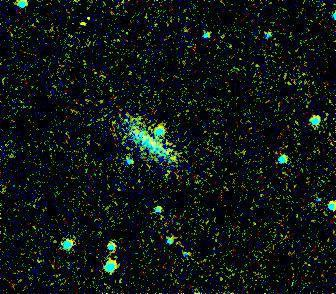star: (71, 9, 101, 39)
